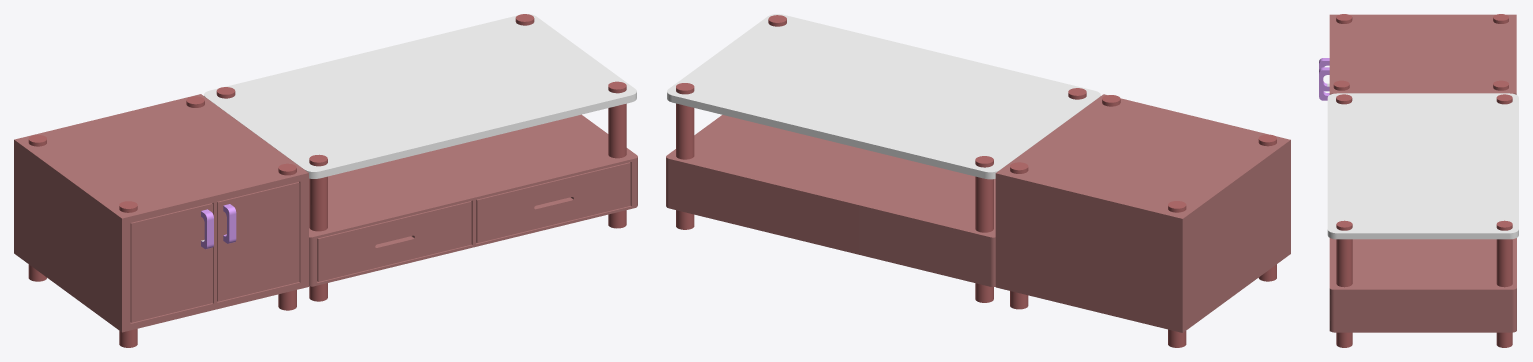
The model's file is TableTv.fbx.
The picture shows the model from 3 angles, left to right: view 1: azimuth 30°, elevation 25°; view 2: azimuth 150°, elevation 25°; view 3: azimuth 270°, elevation 25°; orthographic projection. The views are drawn at different scales.
Parts seen in each view (by area): view 1: pCube3, pCube2, pCube1, pCylinder4, pCylinder1, pCylinder8, pCylinder5; view 2: pCube3, pCube2, pCube1, pCylinder3, pCylinder2, pCylinder6, pCylinder7; view 3: pCube2, pCube1, pCube3, pCylinder1, pCylinder2.
Boxes of the visible parts, bbox=[...] form: pCube3: bbox=[14, 94, 308, 332]; pCube2: bbox=[204, 14, 636, 178]; pCube1: bbox=[309, 114, 637, 286]; pCylinder4: bbox=[309, 154, 327, 301]; pCylinder1: bbox=[608, 81, 626, 228]; pCylinder8: bbox=[278, 163, 296, 310]; pCylinder5: bbox=[119, 201, 137, 347]; pCube3: bbox=[995, 94, 1290, 332]; pCube2: bbox=[667, 14, 1100, 179]; pCube1: bbox=[666, 115, 995, 286]; pCylinder3: bbox=[975, 156, 993, 302]; pCylinder2: bbox=[676, 83, 694, 229]; pCylinder6: bbox=[1168, 201, 1186, 347]; pCylinder7: bbox=[1010, 162, 1028, 309]; pCube2: bbox=[1327, 93, 1518, 239]; pCube1: bbox=[1329, 238, 1516, 332]; pCube3: bbox=[1319, 14, 1516, 100]; pCylinder1: bbox=[1336, 220, 1352, 347]; pCylinder2: bbox=[1496, 220, 1512, 347].
Size of the model in its own units: 17.09 by 4.38 by 6.6.
